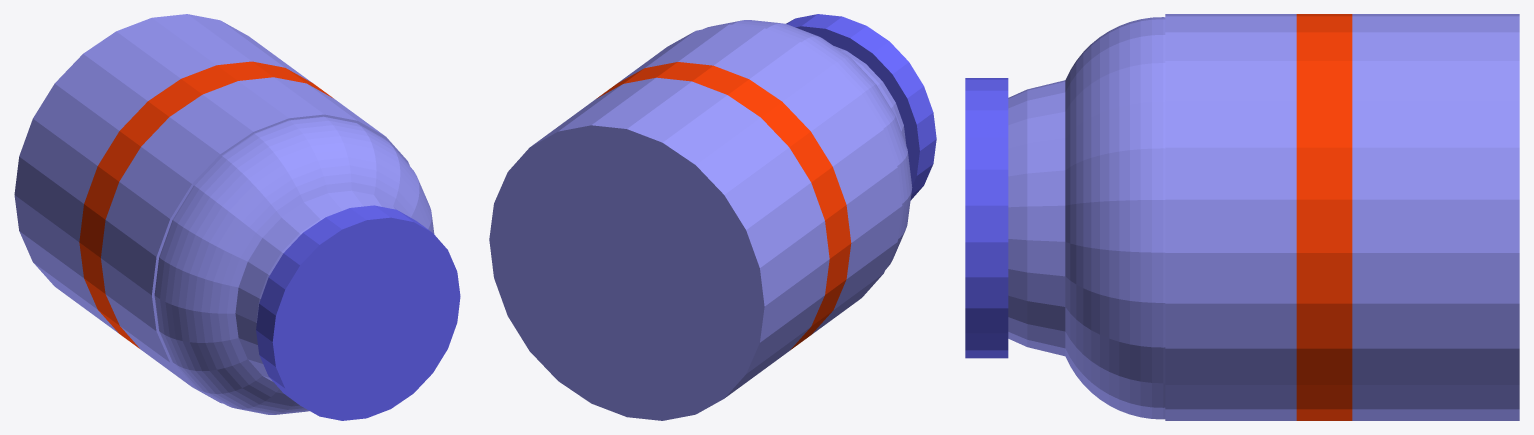
3 renders of one model, left to right at view 1: azimuth 30°, elevation 25°; view 2: azimuth 150°, elevation 25°; view 3: azimuth 270°, elevation 25°, orthographic. The views are drawn at different scales.
Visible parts, largest first — view 1: amber pill; view 2: amber pill; view 3: amber pill.
Part boxes in pixels (bbox=[...]): amber pill: bbox=[14, 14, 460, 420]; amber pill: bbox=[489, 14, 936, 420]; amber pill: bbox=[965, 14, 1519, 420].
Size of the model in its own units: 524 by 524 by 711.
